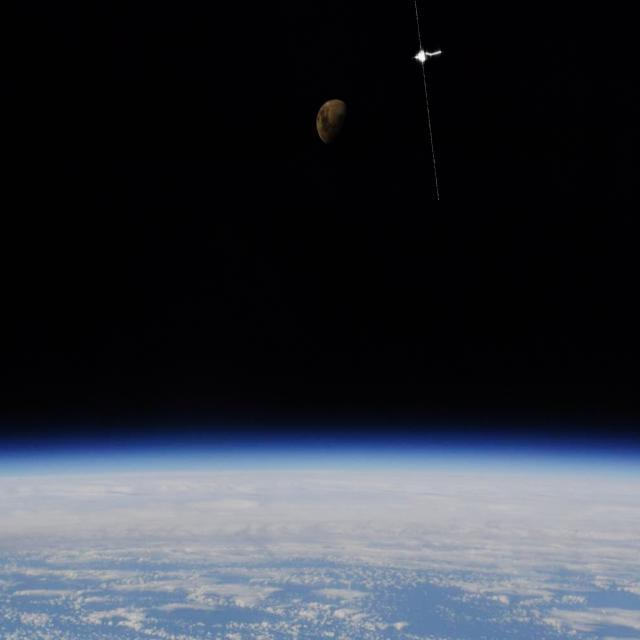satellite: (391, 0, 490, 197)
